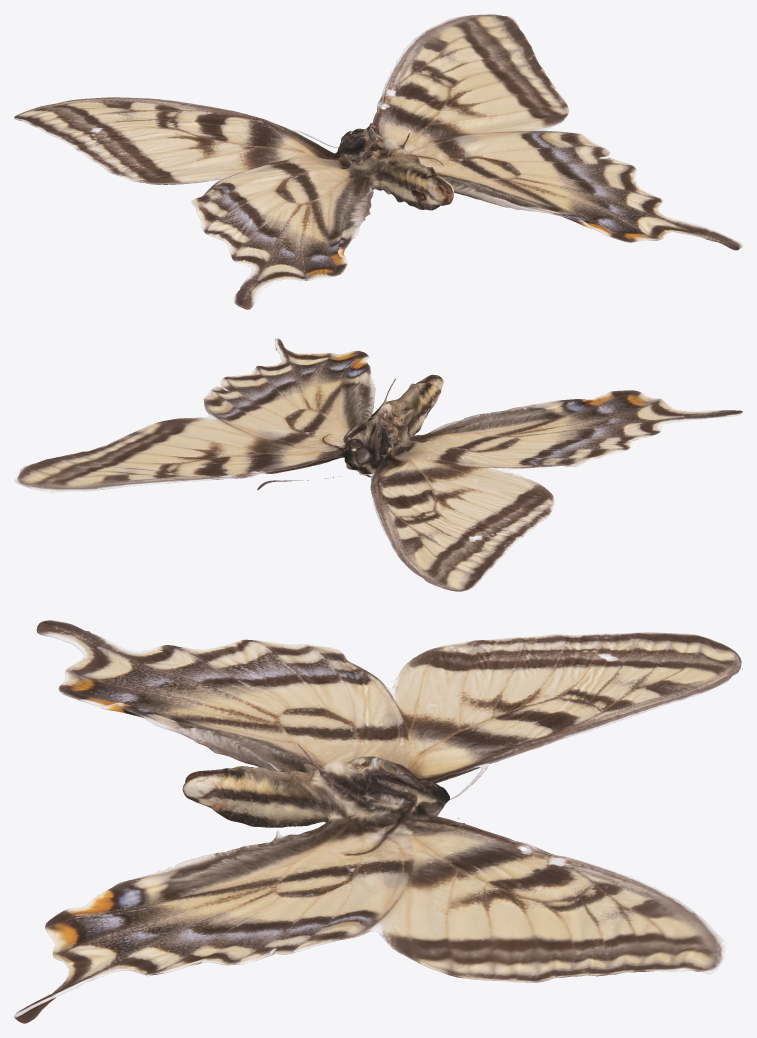
The model's file is tiger_swallowtailFin.glb.
3 views of the same model, one above another, from view 1: azimuth 30°, elevation 25°; view 2: azimuth 150°, elevation 25°; view 3: azimuth 270°, elevation 25° (orthographic). The views are drawn at different scales.
Visible parts, largest first — view 1: Object_2, Object_3; view 2: Object_2, Object_3; view 3: Object_2, Object_3.
Boxes of the visible parts, x1=… form: Object_2: x1=14, y1=15, x2=741, y2=309; Object_3: x1=24, y1=14, x2=742, y2=309; Object_2: x1=18, y1=338, x2=742, y2=591; Object_3: x1=14, y1=338, x2=742, y2=591; Object_2: x1=16, y1=620, x2=741, y2=1017; Object_3: x1=14, y1=620, x2=742, y2=1023.
Bounding box in the file's own units: 3.61 × 0.6586 × 3.3.
1 material, 1 textured.
